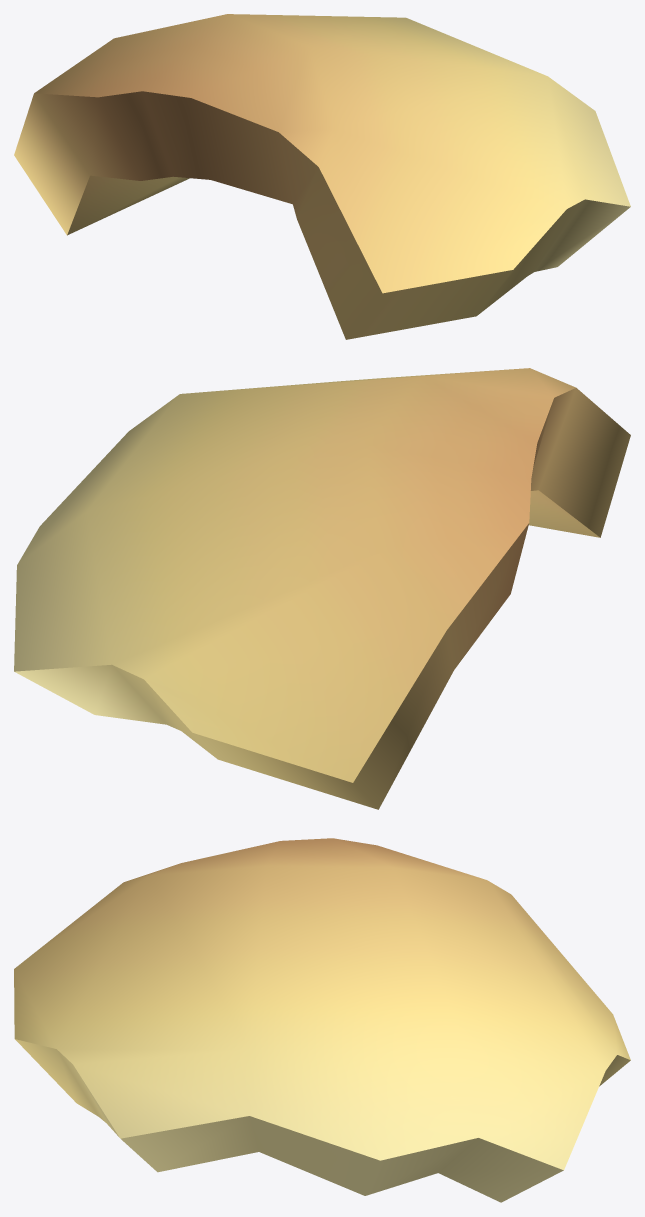
Rendered from Egg_Particle_Grey_001.fbx.
3 renders of one model, top to bottom at view 1: azimuth 30°, elevation 25°; view 2: azimuth 150°, elevation 25°; view 3: azimuth 270°, elevation 25°, orthographic. The views are drawn at different scales.
Visible parts, largest first — view 1: Egg_Particle_Grey_001; view 2: Egg_Particle_Grey_001; view 3: Egg_Particle_Grey_001.
Part boxes in pixels (left/top/right/bottom): Egg_Particle_Grey_001: left=14, top=14, right=630, bottom=339; Egg_Particle_Grey_001: left=14, top=368, right=630, bottom=809; Egg_Particle_Grey_001: left=14, top=838, right=630, bottom=1202.
Size of the model in its own units: 1.37 by 0.7852 by 1.71.
